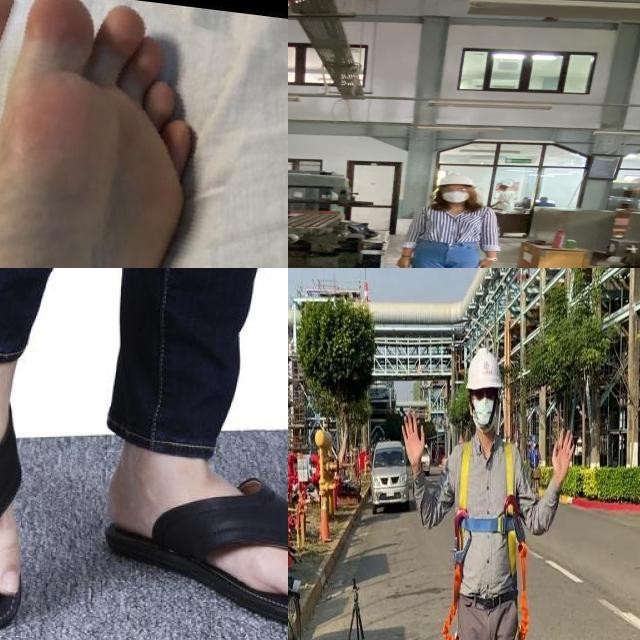Barefoots: (0, 4, 207, 268)
Harness: (443, 441, 530, 640)
Sandals: (103, 423, 288, 632)
face_mask: (442, 186, 472, 202)
glasses: (438, 185, 470, 192)
hand_noglove: (394, 255, 415, 268), (472, 258, 495, 268)
head_helmet: (436, 172, 477, 187)
